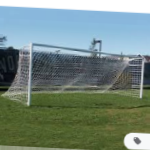goals: (2, 41, 146, 109)
